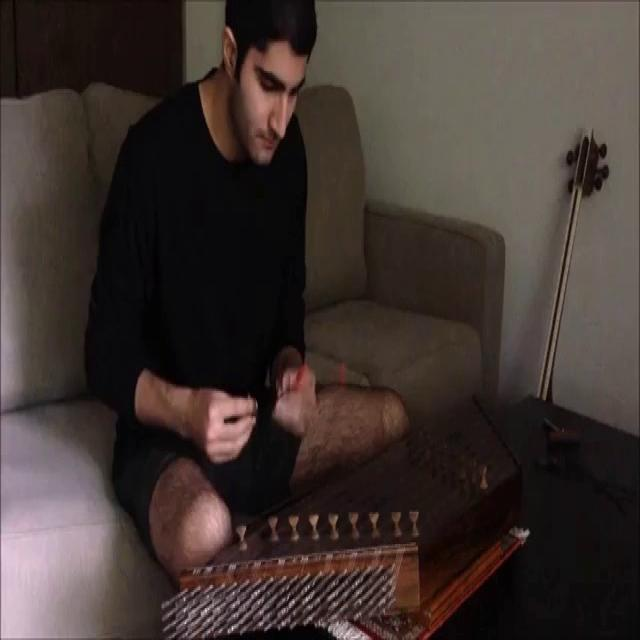Santur: (144, 366, 552, 640)
